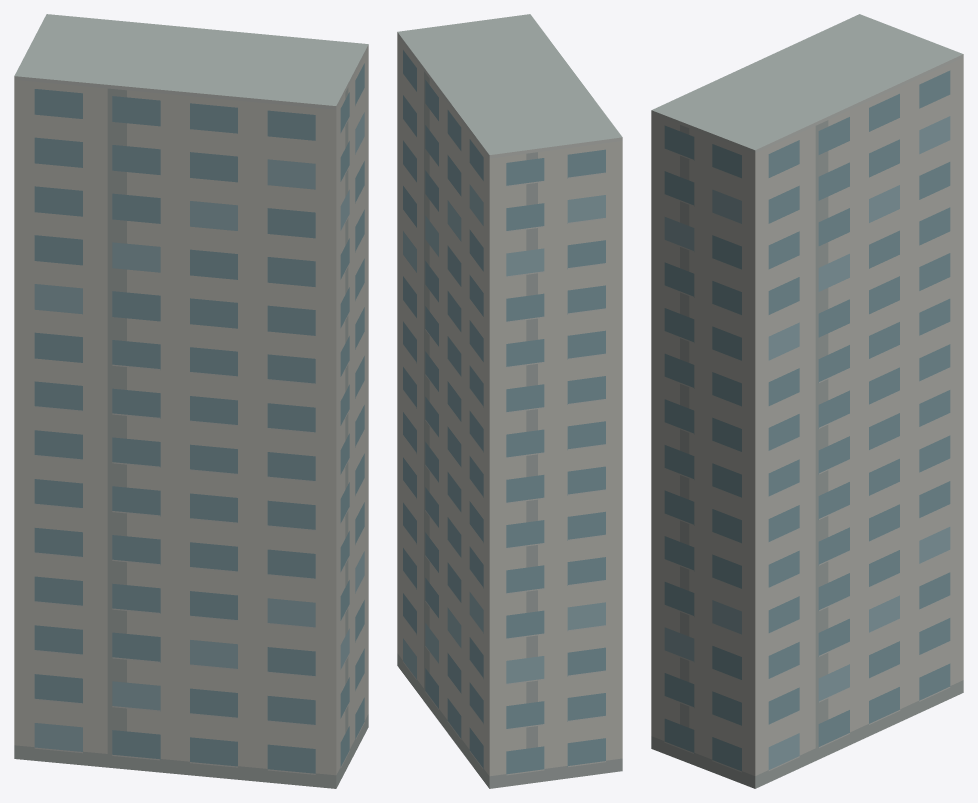
Rendered from residential-2e9844ed-62fe-4ae8-bf15-f9d048f11280.glb.
3 views of the same model, side by side, from view 1: azimuth 30°, elevation 25°; view 2: azimuth 150°, elevation 25°; view 3: azimuth 270°, elevation 25° (orthographic). The views are drawn at different scales.
Parts seen in each view (by area): view 1: residential-2e9844ed-62fe-4ae8-bf15-f9d048f11280.tmp; view 2: residential-2e9844ed-62fe-4ae8-bf15-f9d048f11280.tmp; view 3: residential-2e9844ed-62fe-4ae8-bf15-f9d048f11280.tmp.
Part boxes in pixels (bbox=[...]): residential-2e9844ed-62fe-4ae8-bf15-f9d048f11280.tmp: bbox=[14, 14, 368, 788]; residential-2e9844ed-62fe-4ae8-bf15-f9d048f11280.tmp: bbox=[397, 14, 622, 788]; residential-2e9844ed-62fe-4ae8-bf15-f9d048f11280.tmp: bbox=[651, 14, 963, 788].
Bounding box in the file's own units: 20.6 × 45 × 19.94.
